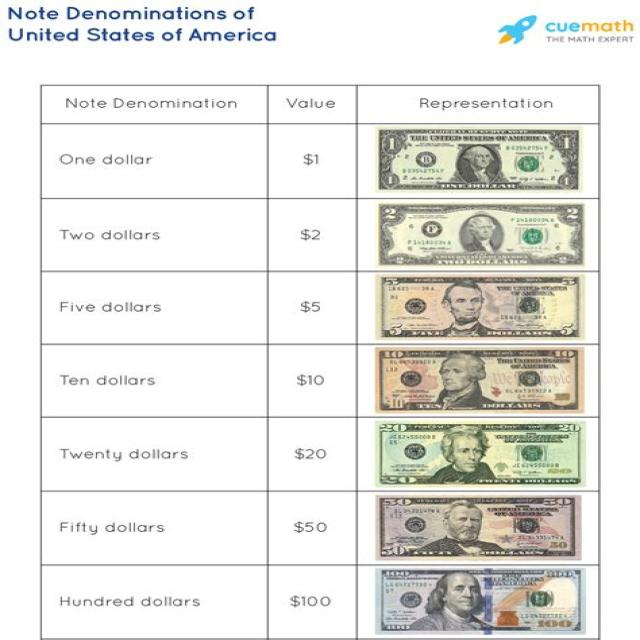Fifty: (375, 495, 585, 558)
Five: (375, 275, 586, 340)
Hundred: (376, 566, 588, 636)
One: (374, 124, 587, 192)
Ten: (375, 346, 584, 412)
Twenty: (376, 419, 588, 489)
Two: (376, 200, 588, 270)
